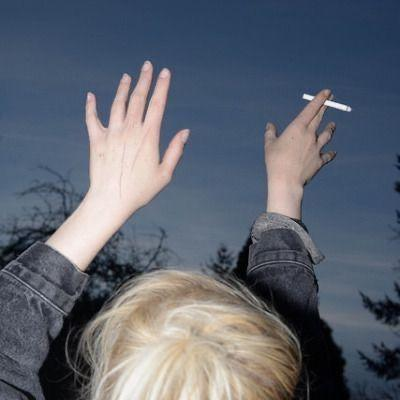cigarette: (301, 93, 353, 112)
